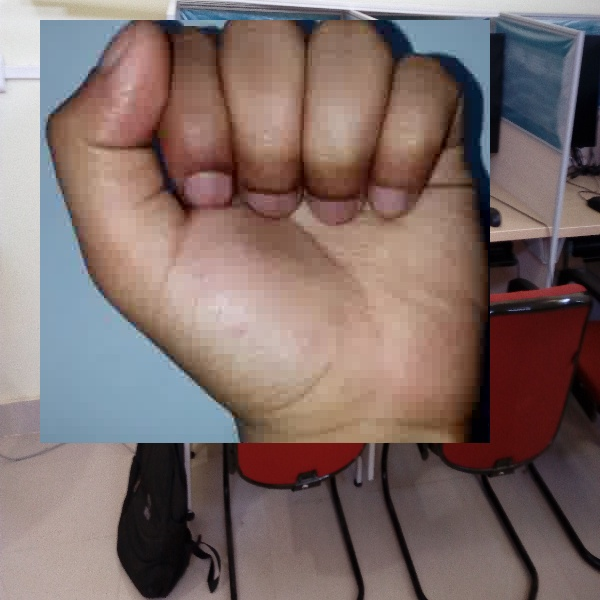A: (40, 20, 490, 443)
